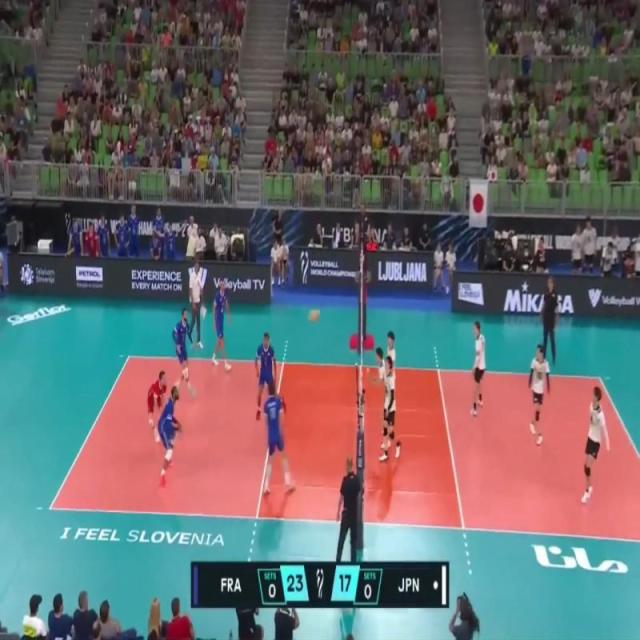volleyball: (308, 307, 322, 324)
